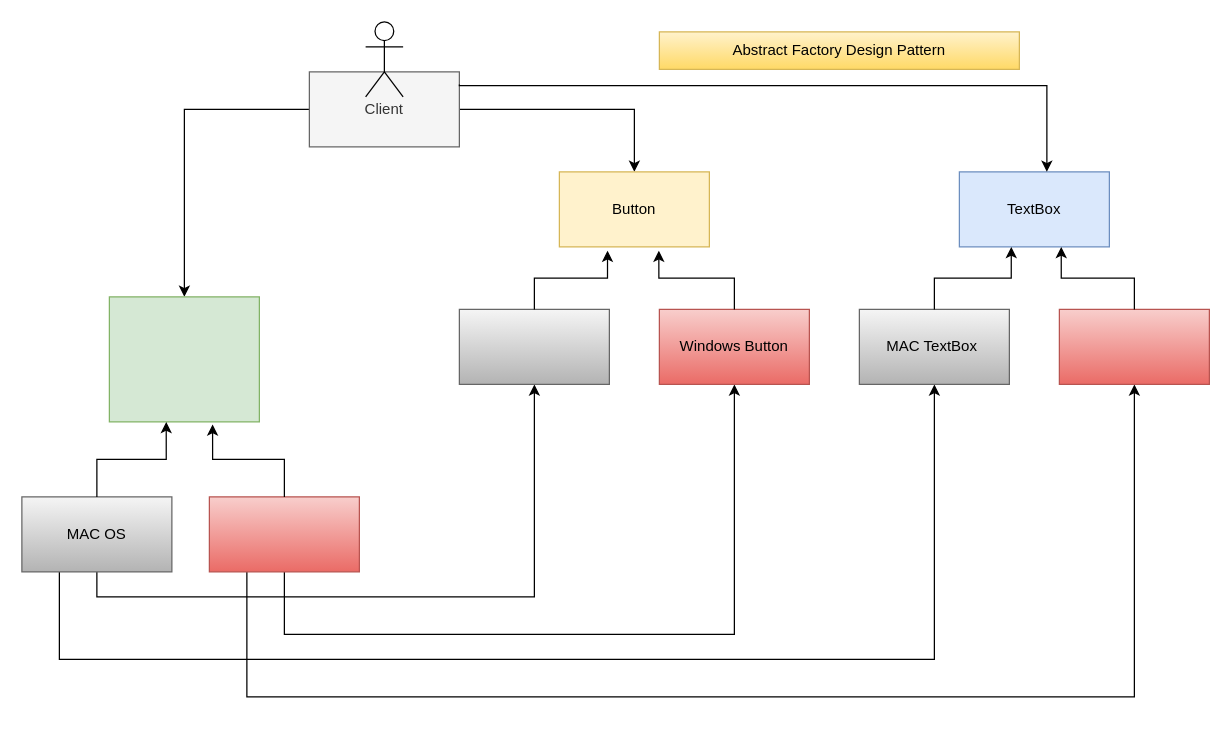
The diagram is 1231 pixels wide and 729 high, and some of its shapes have lost their labels. Each missing label, with the centre of its shape:
GUI Factory: the point at 183,359
MAC Button: the point at 533,346
Windows OS: the point at 283,534
Windows TextBox: the point at 1133,346
